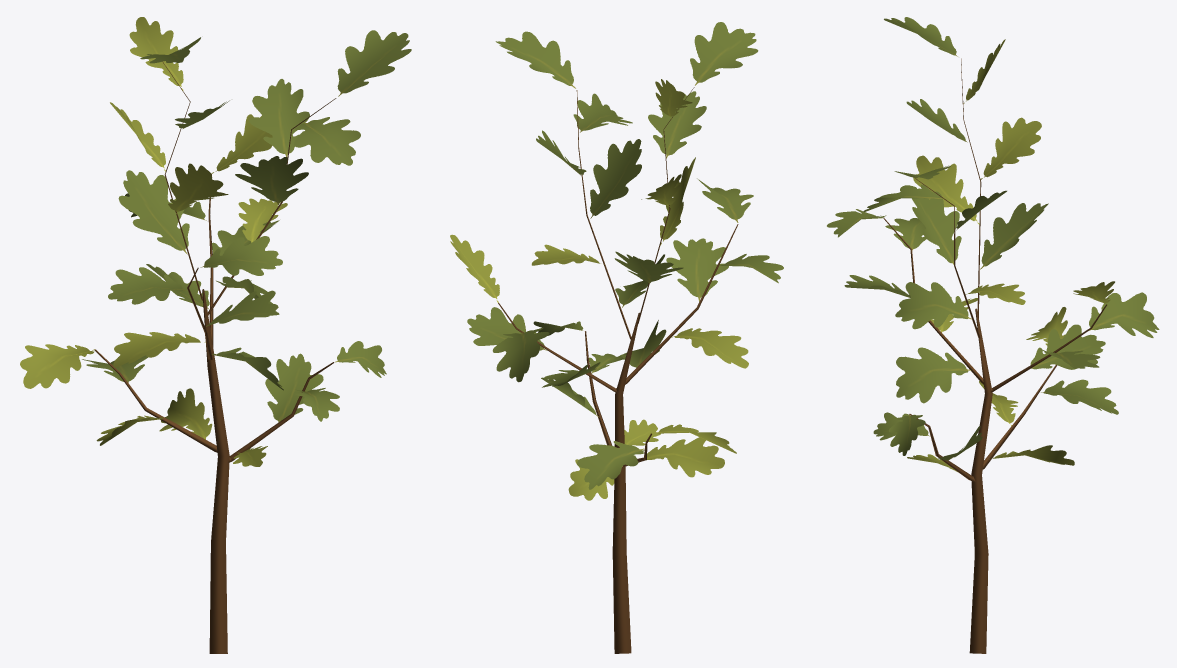
Rendered from Young_Oak_Tree_2.fbx.
3 views of the same model, side by side, from view 1: azimuth 30°, elevation 25°; view 2: azimuth 150°, elevation 25°; view 3: azimuth 270°, elevation 25° (orthographic). The views are drawn at different scales.
Visible parts, largest first — view 1: Young_Oak_Tree_2; view 2: Young_Oak_Tree_2; view 3: Young_Oak_Tree_2.
Boxes of the visible parts, x1,y1,x2,y2 form: Young_Oak_Tree_2: [20, 17, 411, 653]; Young_Oak_Tree_2: [450, 22, 783, 653]; Young_Oak_Tree_2: [827, 17, 1159, 653].
Bounding box in the file's own units: 93.96 × 181 × 92.4.
2 materials, 2 textured.
